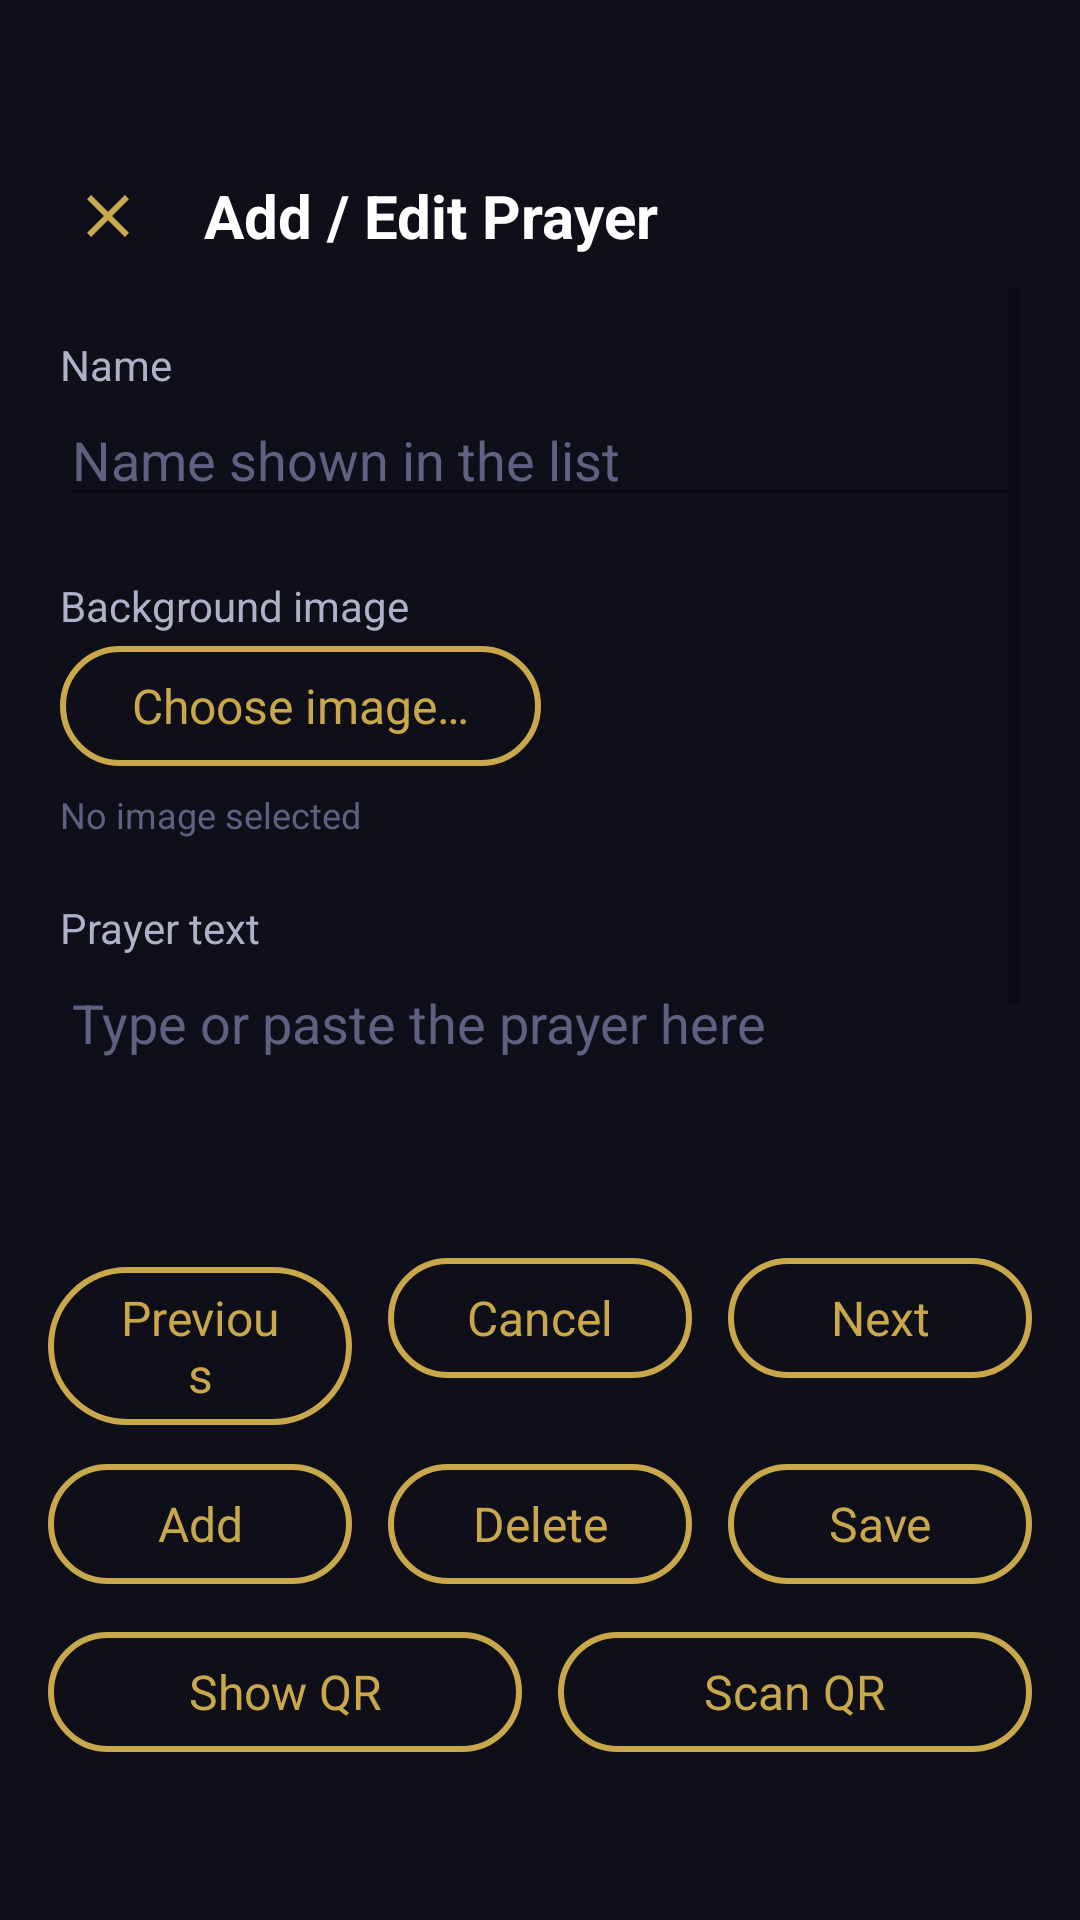

Named icons in this screenshot (1080px×1920px) and their bounding boxes, (x1, y1, x2, y2):
Close: (87, 195, 129, 237)
